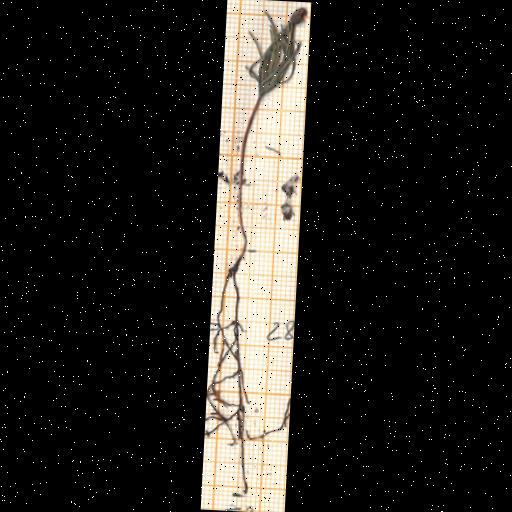flowerPinus: (247, 7, 306, 97)
rootPinus: (207, 237, 248, 493)
stemPinus: (236, 97, 261, 249)
